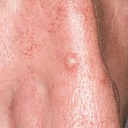Carcinoma: (63, 50, 78, 72)
